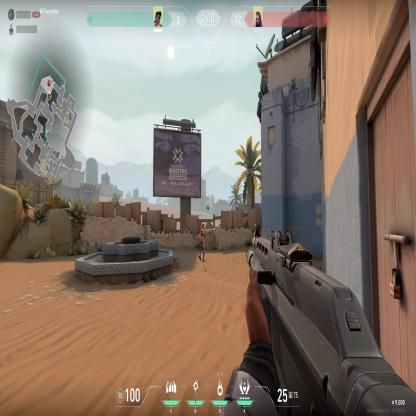enemy: (198, 222, 212, 262)
